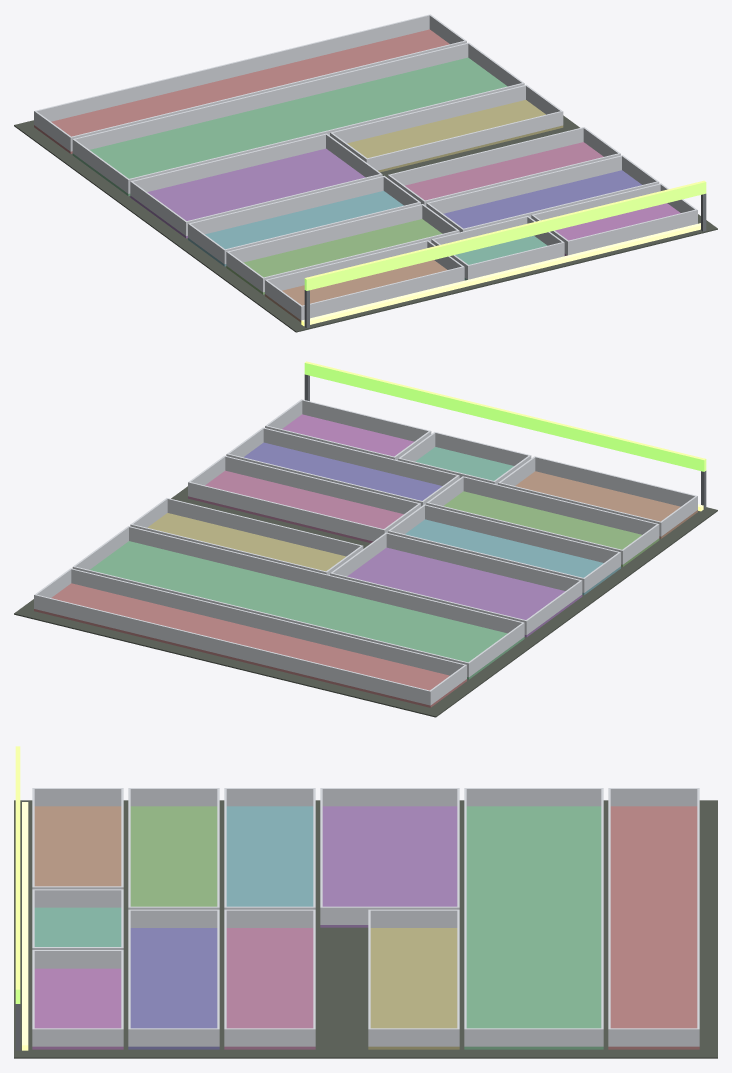
Rendered from hall-miners.glb.
3 renders of one model, top to bottom at view 1: azimuth 30°, elevation 25°; view 2: azimuth 150°, elevation 25°; view 3: azimuth 270°, elevation 25°, orthographic. The views are drawn at different scales.
Visible parts, largest first — view 1: Underground Miners; view 2: Underground Miners; view 3: Underground Miners.
Part boxes in pixels (box(x1,y1,x2,y2)): Underground Miners: box(14, 14, 717, 332); Underground Miners: box(14, 361, 717, 717); Underground Miners: box(14, 746, 717, 1058).
Bounding box in the file's own units: 38 × 4.3 × 44.
